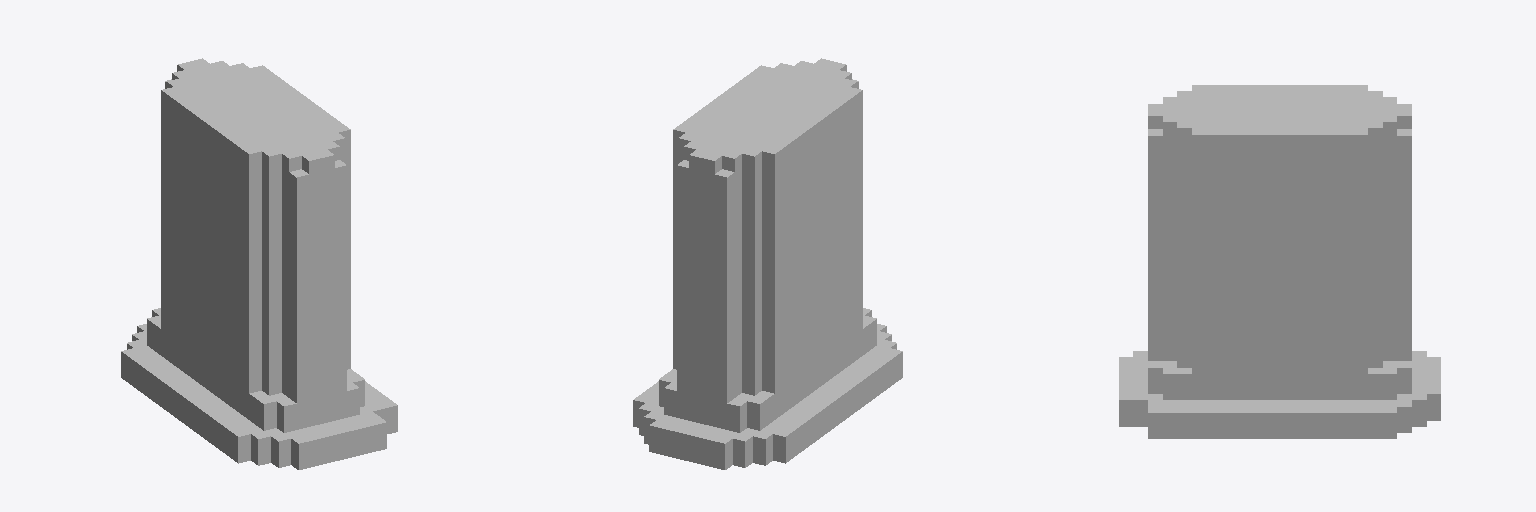
File: Mdl_Mural_0.obj
3 renders of one model, left to right at view 1: azimuth 30°, elevation 25°; view 2: azimuth 150°, elevation 25°; view 3: azimuth 270°, elevation 25°, orthographic.
Parts seen in each view (by area): view 1: Mdl_Mural_0; view 2: Mdl_Mural_0; view 3: Mdl_Mural_0.
Part boxes in pixels (left/top/right/bottom): Mdl_Mural_0: left=121, top=58, right=397, bottom=469; Mdl_Mural_0: left=633, top=58, right=902, bottom=469; Mdl_Mural_0: left=1119, top=85, right=1440, bottom=438.
Bounding box in the file's own units: 12 × 22 × 22.